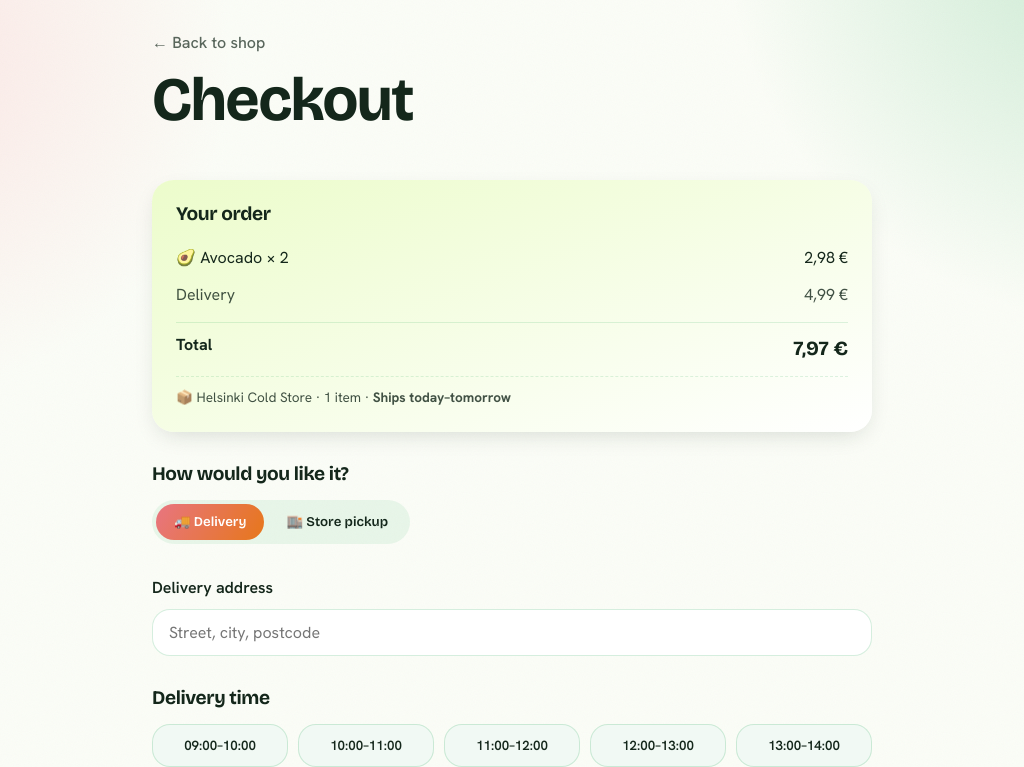
Scenario: CheckoutForm › sends the payment with the order and shows it on confirmation
Click the radio button labelled "🏬 Store pickup".
click(337, 522)  # box [268,504,406,540]
(page scrolled)
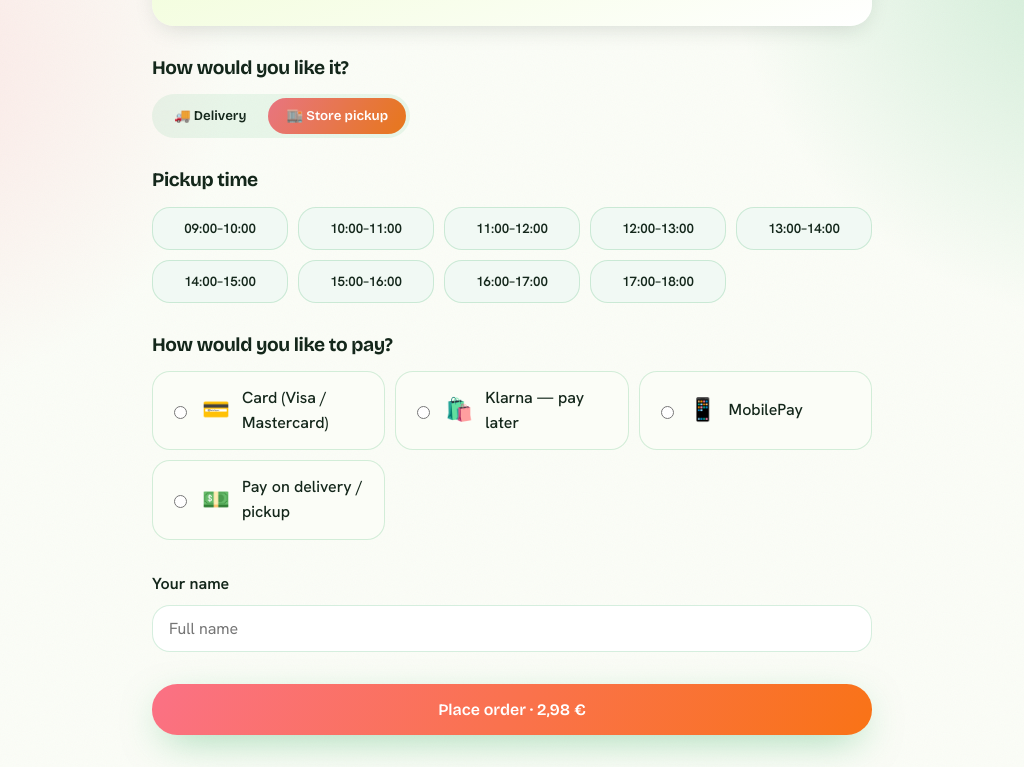
Type "Aino" into the field labelled "Your name".
click(512, 628); type("Aino")  # box [152,605,872,652]
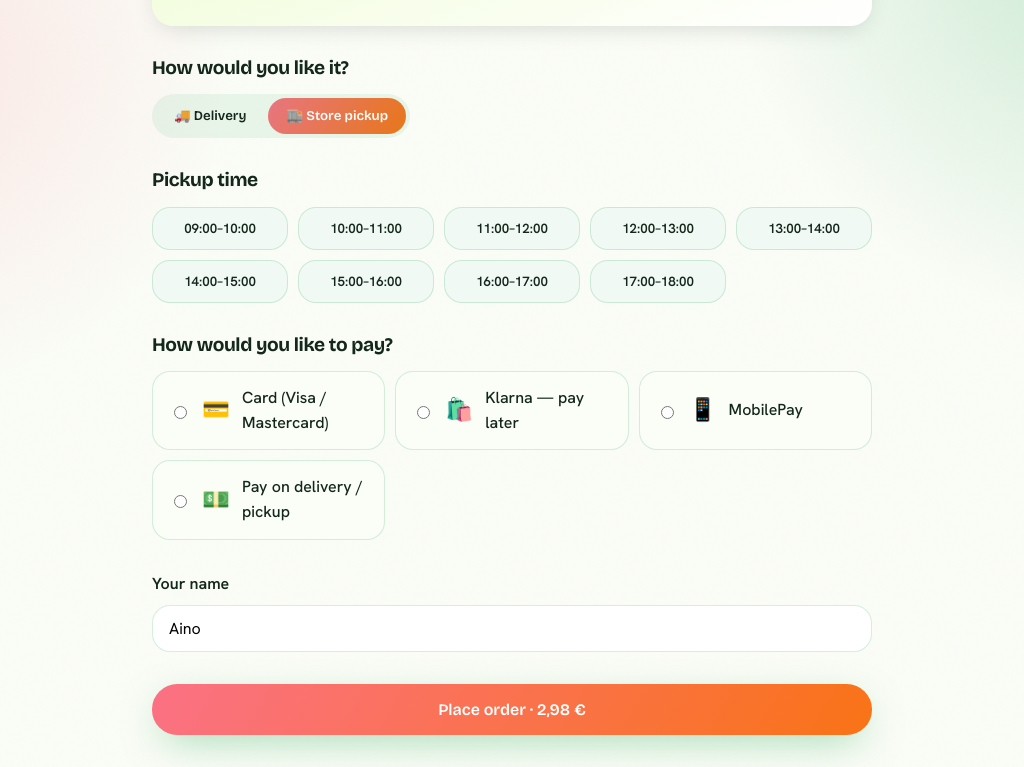
Click the button "10:00–11:00".
click(366, 228)  # box [298,207,434,250]
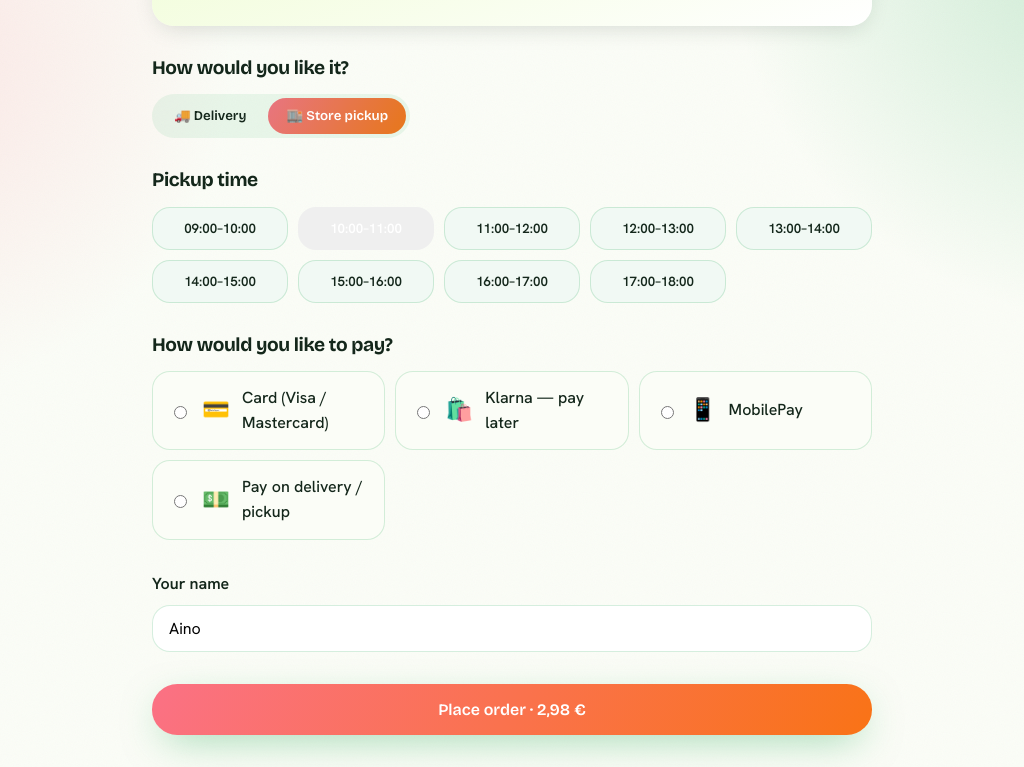
Click the radio button labelled "💵 Pay on delivery / pickup".
click(180, 502)  # box [174,495,187,508]
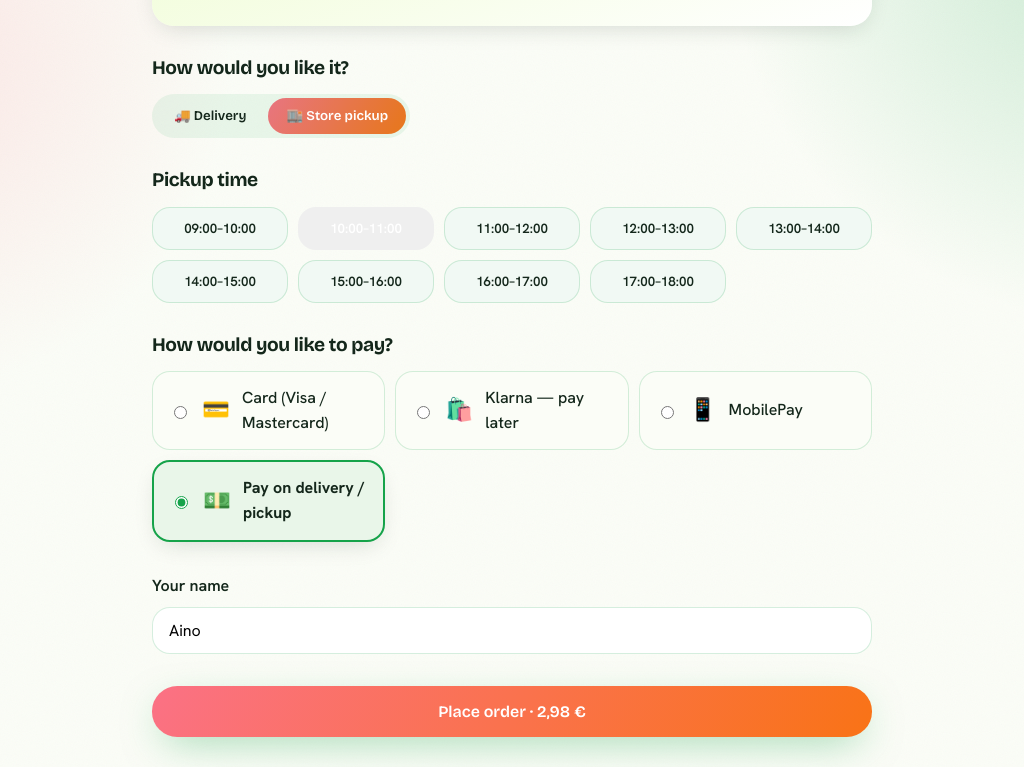
Click the button "Place order · 2,98 €".
click(512, 711)  # box [152,686,872,737]
(page scrolled)
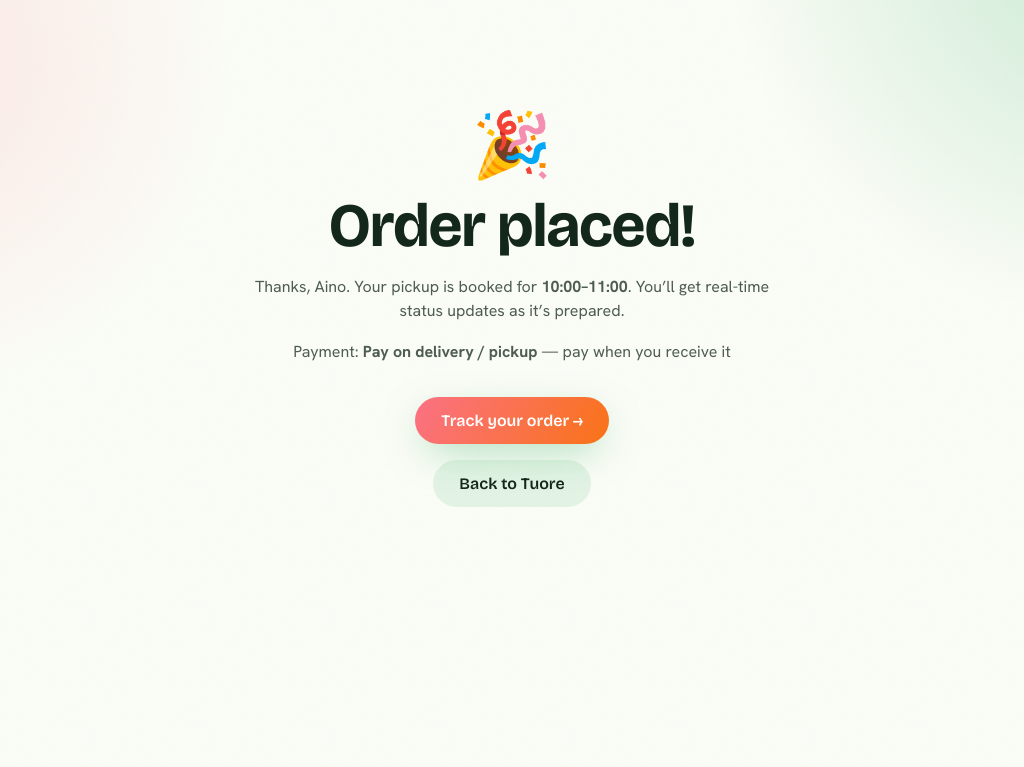
Expected: the text "Pay on delivery / pickup" is shown, [363,341,537,362]
Result: the heading "Order placed!" is shown at [329,189,695,263]
